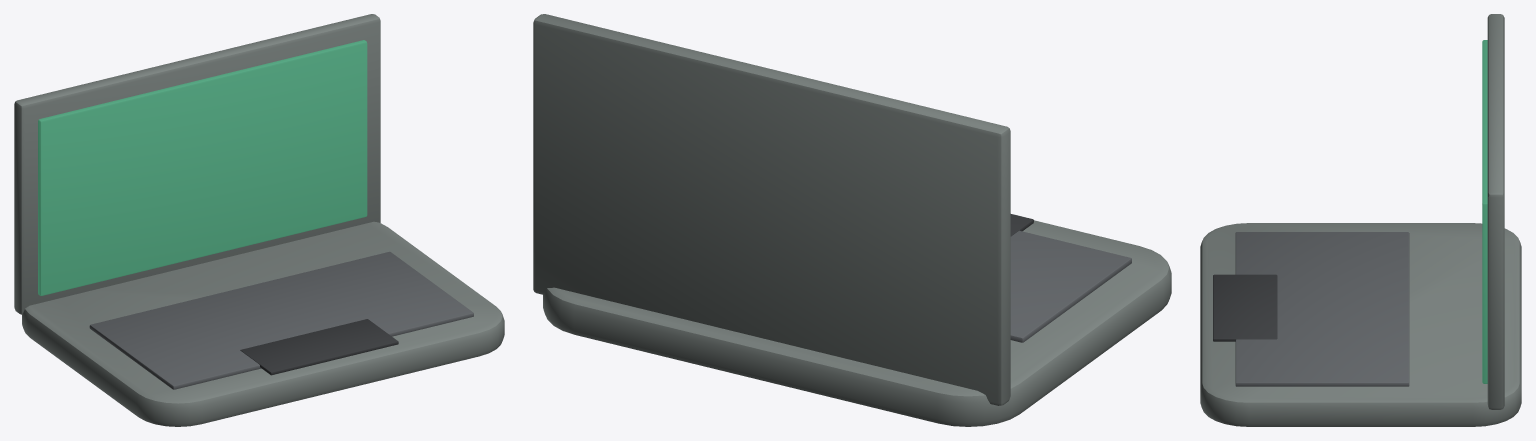
The model's file is laptop_municipal.glb.
3 views of the same model, side by side, from view 1: azimuth 30°, elevation 25°; view 2: azimuth 150°, elevation 25°; view 3: azimuth 270°, elevation 25° (orthographic). The views are drawn at different scales.
Parts seen in each view (by area): view 1: Laptop_Screen, Laptop_Base, Laptop_Keyboard, Laptop_ScreenBack, Laptop_Trackpad; view 2: Laptop_ScreenBack, Laptop_Base, Laptop_Keyboard; view 3: Laptop_Base, Laptop_Keyboard, Laptop_ScreenBack, Laptop_Trackpad, Laptop_Screen.
Boxes of the visible parts, bbox=[...] form: Laptop_Screen: bbox=[38, 40, 367, 295]; Laptop_Base: bbox=[22, 221, 504, 426]; Laptop_Keyboard: bbox=[89, 251, 473, 389]; Laptop_ScreenBack: bbox=[14, 14, 380, 314]; Laptop_Trackpad: bbox=[240, 319, 398, 375]; Laptop_ScreenBack: bbox=[533, 14, 1010, 405]; Laptop_Base: bbox=[543, 220, 1171, 426]; Laptop_Keyboard: bbox=[1010, 230, 1131, 342]; Laptop_Base: bbox=[1200, 223, 1521, 426]; Laptop_Keyboard: bbox=[1235, 232, 1409, 386]; Laptop_ScreenBack: bbox=[1487, 14, 1504, 409]; Laptop_Trackpad: bbox=[1213, 274, 1277, 341]; Laptop_Screen: bbox=[1482, 40, 1487, 383].
Size of what is drawn, in the model's own units: 0.3072 by 0.186 by 0.23.
